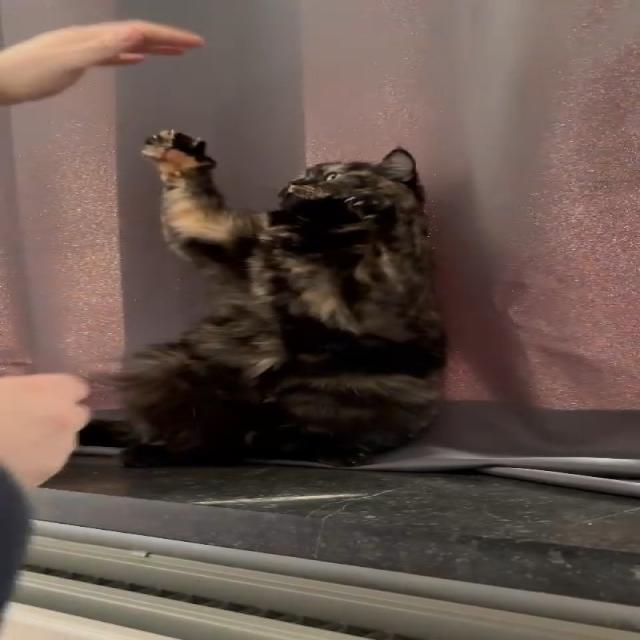authorized: (103, 128, 449, 468)
